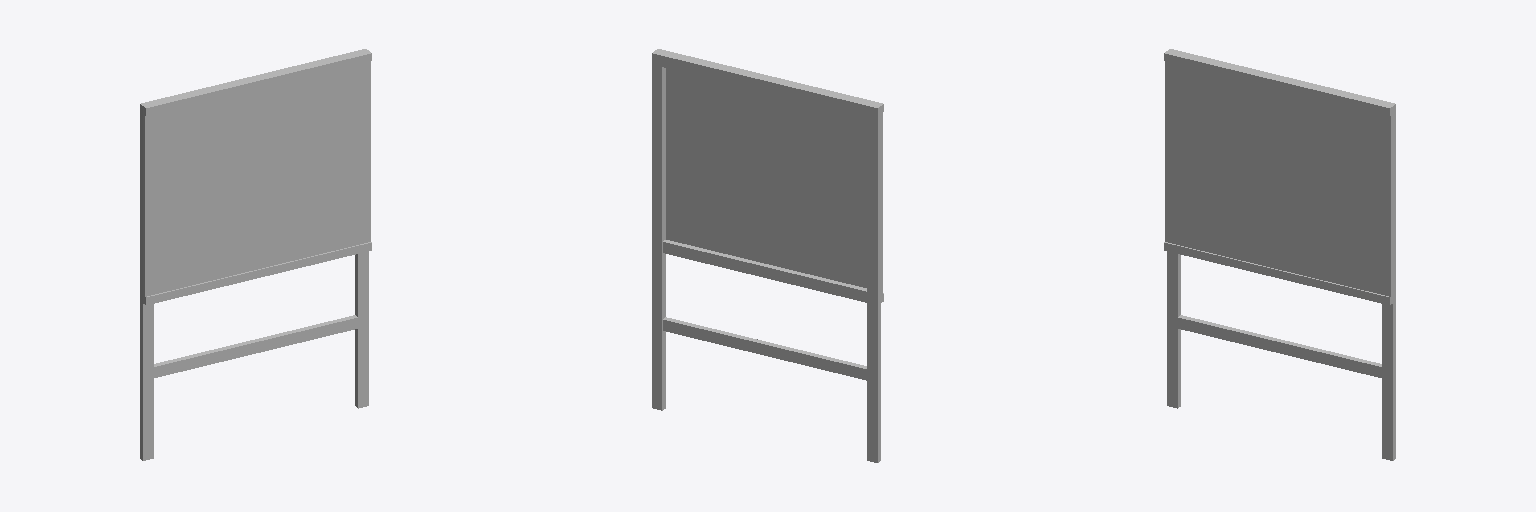
File: ShootingTarget.obj
3 views of the same model, side by side, from view 1: azimuth 30°, elevation 25°; view 2: azimuth 150°, elevation 25°; view 3: azimuth 330°, elevation 25° (orthographic).
Parts seen in each view (by area): view 1: Plane001_02_-_Default_0; view 2: Plane001_02_-_Default_0; view 3: Plane001_02_-_Default_0.
Boxes of the visible parts, x1=… form: Plane001_02_-_Default_0: x1=140, y1=49, x2=371, y2=460; Plane001_02_-_Default_0: x1=652, y1=49, x2=883, y2=462; Plane001_02_-_Default_0: x1=1164, y1=49, x2=1395, y2=460.
Size of the model in its own units: 6.6 by 9.9 by 0.319.